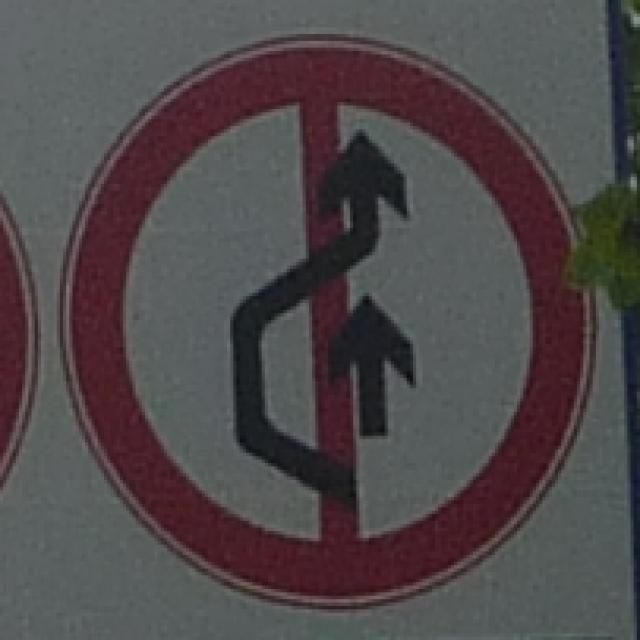Not that Direction: (66, 47, 578, 607)
